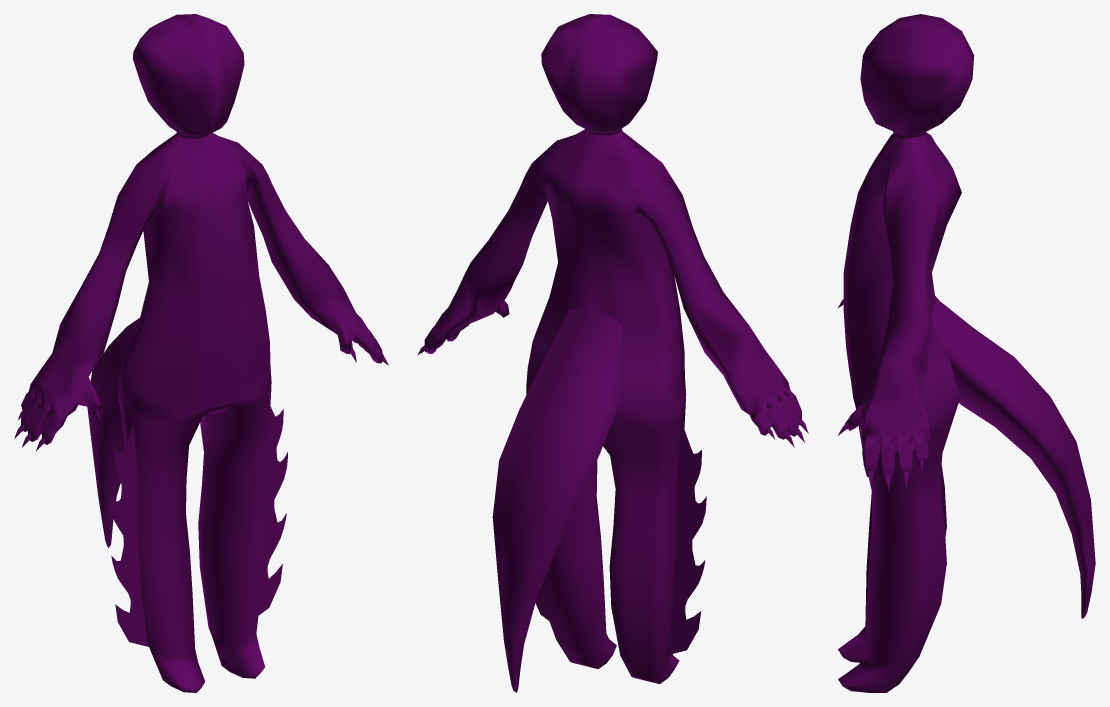
The model's file is MarquinaNPC.fbx.
The picture shows the model from 3 angles, left to right: view 1: azimuth 30°, elevation 25°; view 2: azimuth 150°, elevation 25°; view 3: azimuth 270°, elevation 25°; orthographic projection. The views are drawn at different scales.
Parts seen in each view (by area): view 1: marquina_model; view 2: marquina_model; view 3: marquina_model.
Boxes of the visible parts, bbox=[...] form: marquina_model: bbox=[14, 14, 388, 692]; marquina_model: bbox=[417, 14, 808, 692]; marquina_model: bbox=[837, 14, 1095, 692].
Size of the model in its own units: 27.4 by 45.96 by 16.51.
